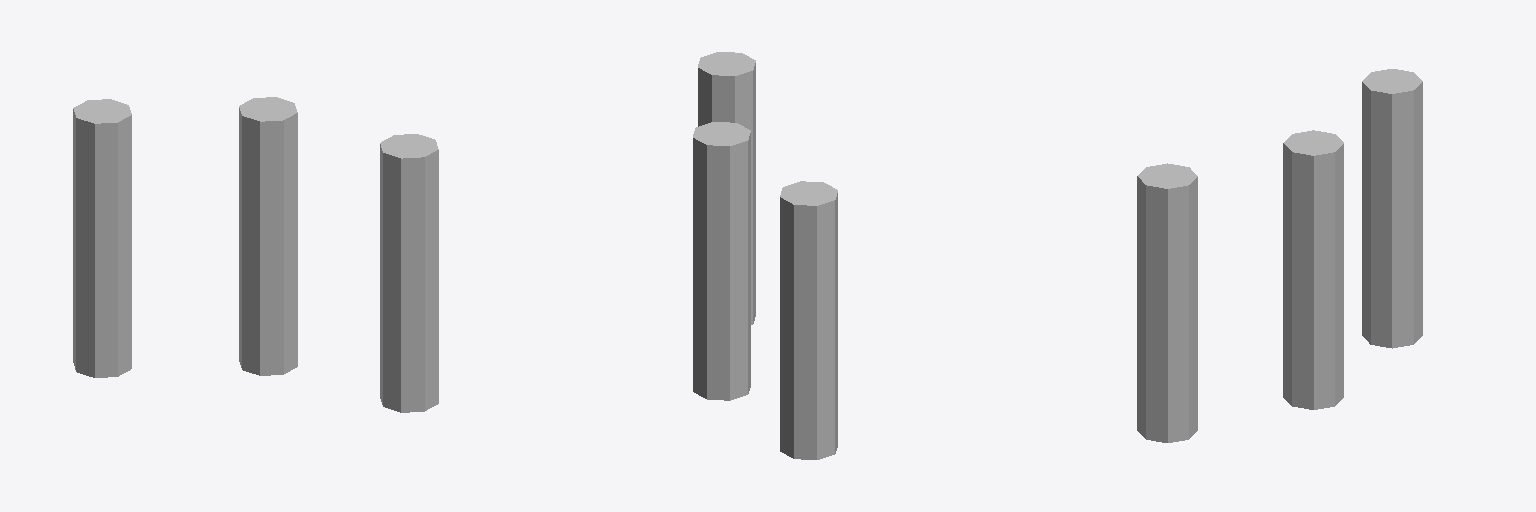
The model's file is Prop_Docks_Corner_Supports.obj.
3 renders of one model, left to right at view 1: azimuth 30°, elevation 25°; view 2: azimuth 150°, elevation 25°; view 3: azimuth 270°, elevation 25°, orthographic.
Visible parts, largest first — view 1: object1, object3, object2; view 2: object2, object3, object1; view 3: object2, object1, object3.
Part boxes in pixels (x1,y1,x2,y2): object1: (380, 134, 438, 412); object3: (73, 99, 131, 377); object2: (239, 97, 297, 375); object2: (693, 122, 750, 400); object3: (780, 181, 837, 459); object1: (698, 52, 755, 324); object2: (1283, 130, 1343, 409); object1: (1137, 163, 1197, 442); object3: (1362, 69, 1422, 348).
Bounding box in the file's own units: 1.02 × 1 × 1.02.